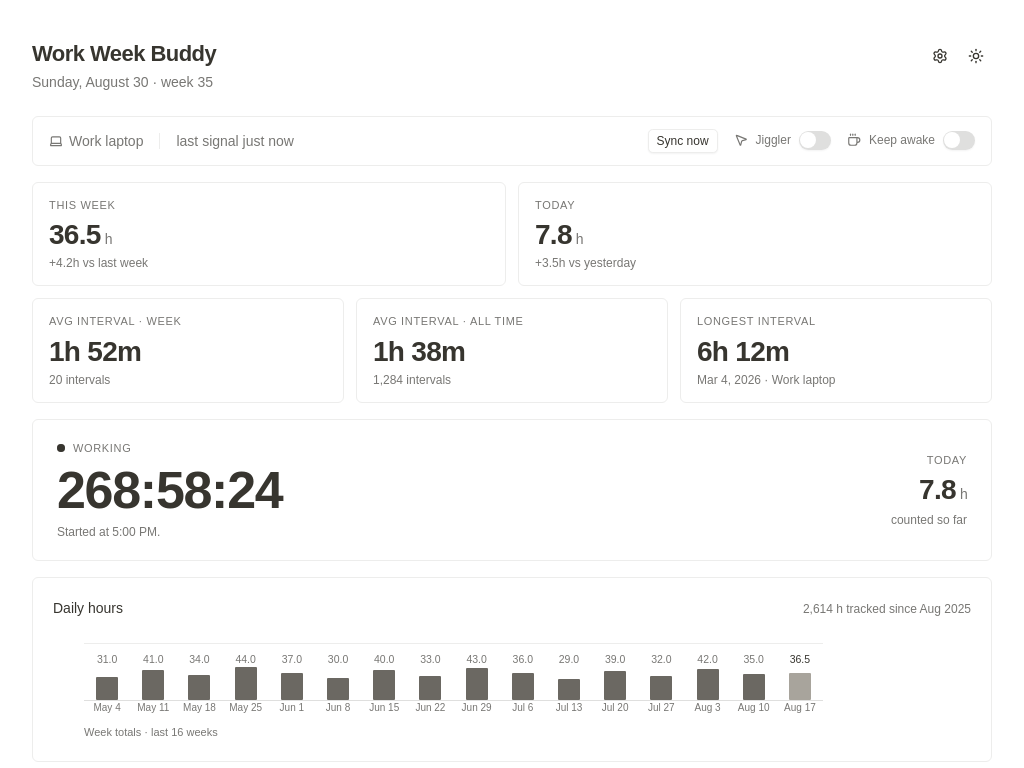
Scenario: what it says when it worked › says one row, not '1 rows'
Click the button "Sync now".
click(683, 140)  # box left=648, top=128, right=718, bottom=152
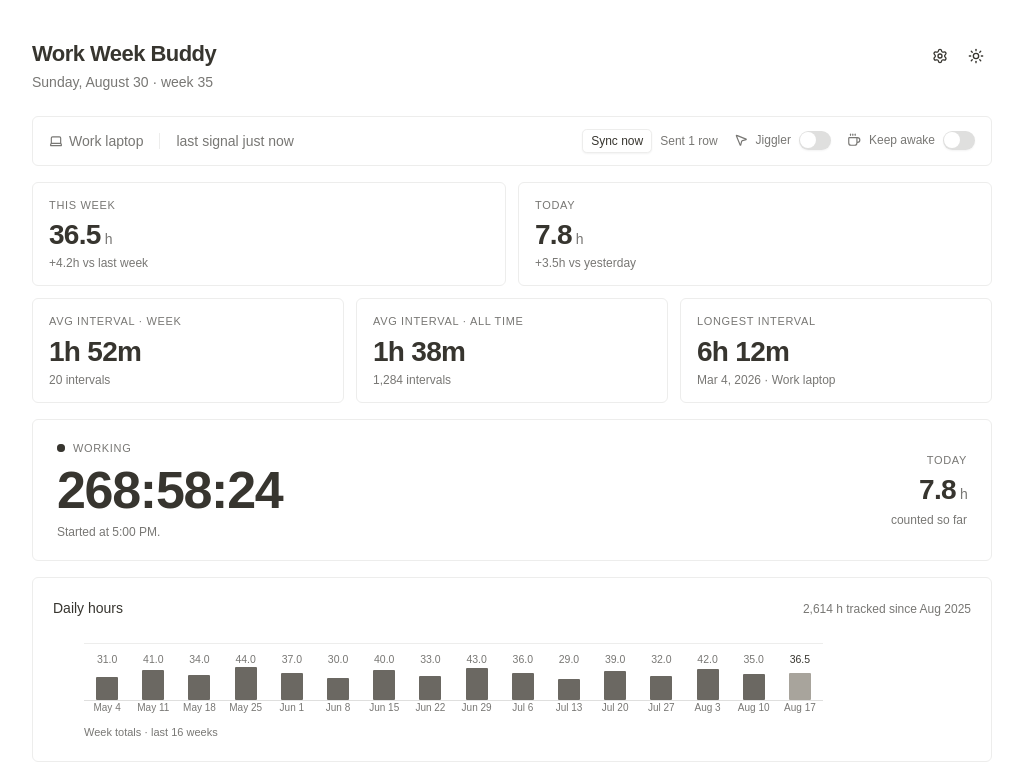
Expected: the message "Sent 1 row" is shown, left=660, top=132, right=718, bottom=148
